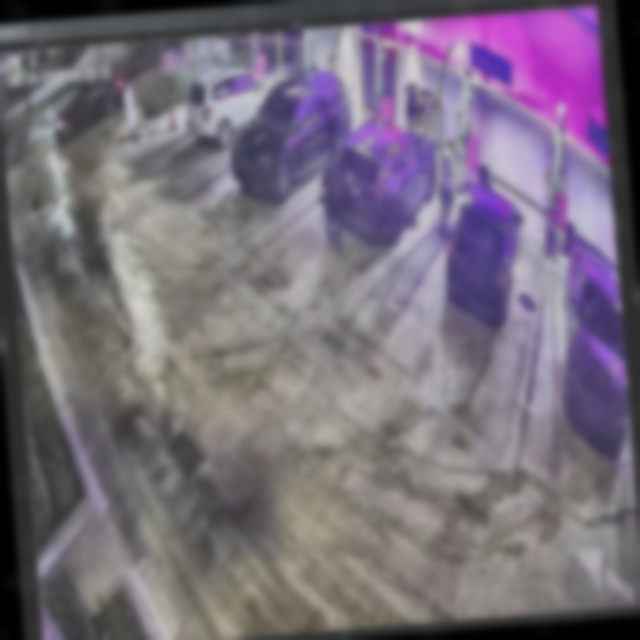Car: (225, 68, 359, 204), (329, 116, 443, 247), (436, 180, 531, 327), (183, 57, 283, 156)
